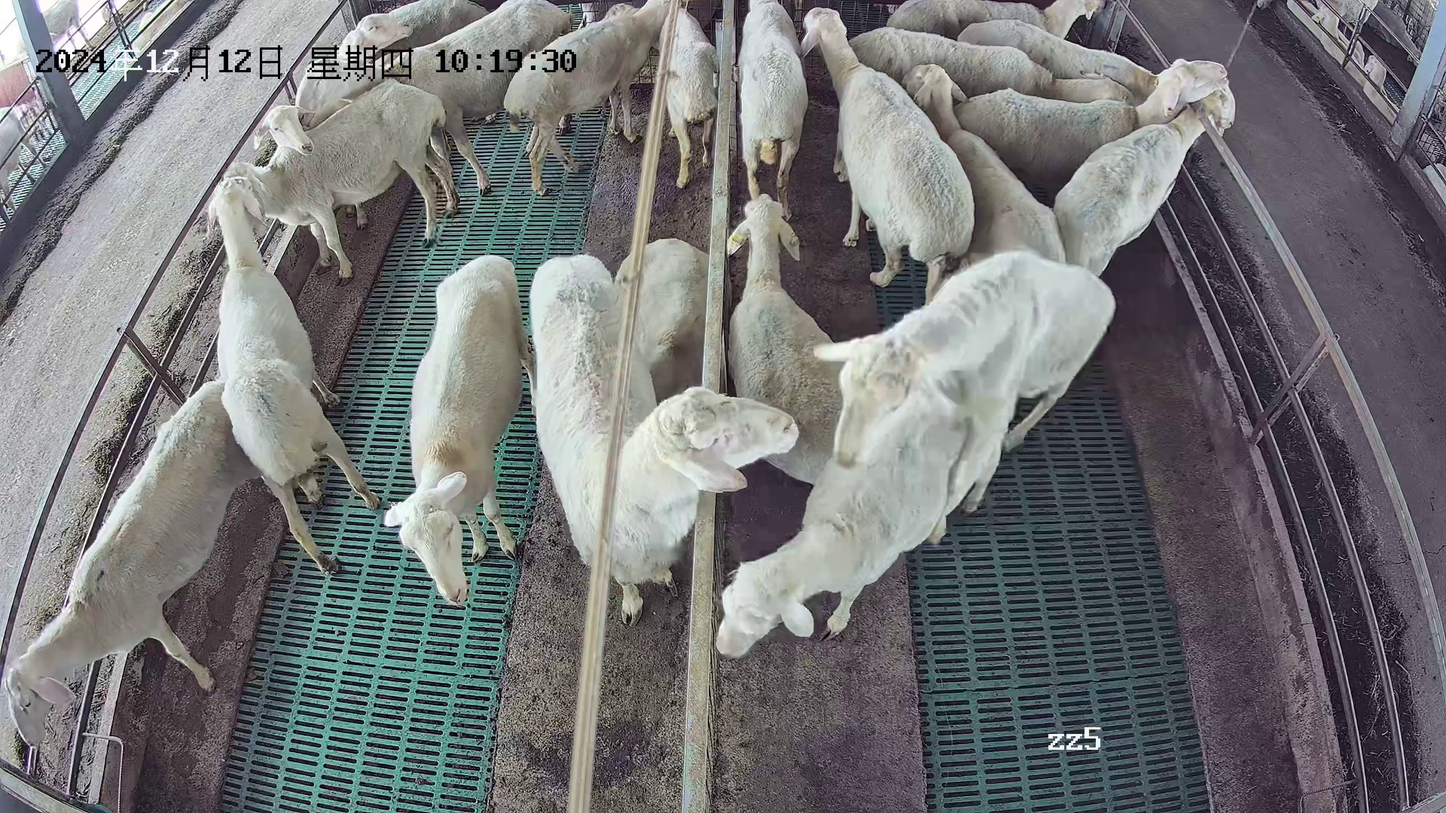Smounting: (710, 250, 1116, 665)
mounted: (713, 383, 974, 662)
